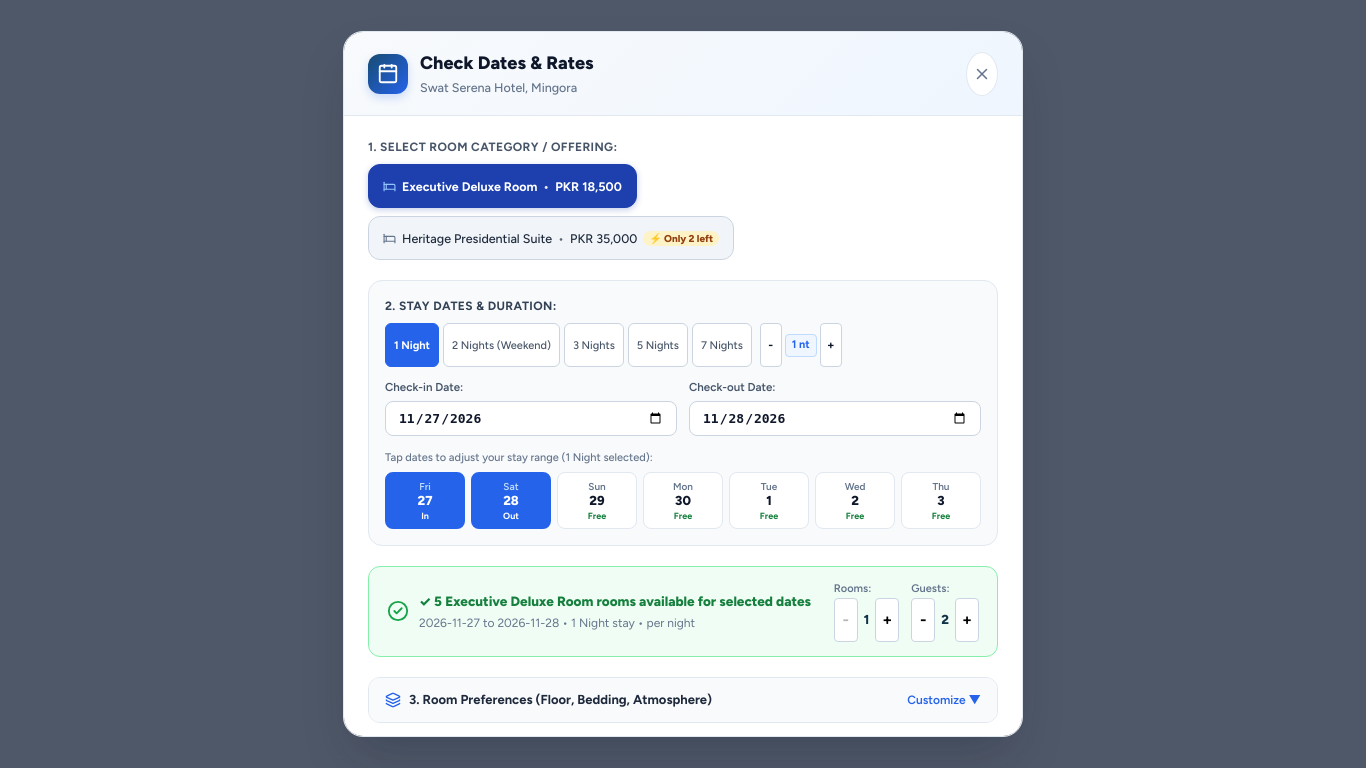
Phase 3: Interactive Availability & Multi-Night Date Picker › renders check-in and check-out date inputs with quick duration presets
Expected: the heading "Check Dates & Rates" is shown, [420, 50, 594, 77]
Expected: the text "Swat Serena Hotel, Mingora" is shown, [420, 79, 594, 98]
// Clicking 3 Nights updates stay range
What coordinates should you click on to do the following:
click the button "3 Nights"
I would click on:
 (594, 346)
Its box is [564, 324, 624, 368].
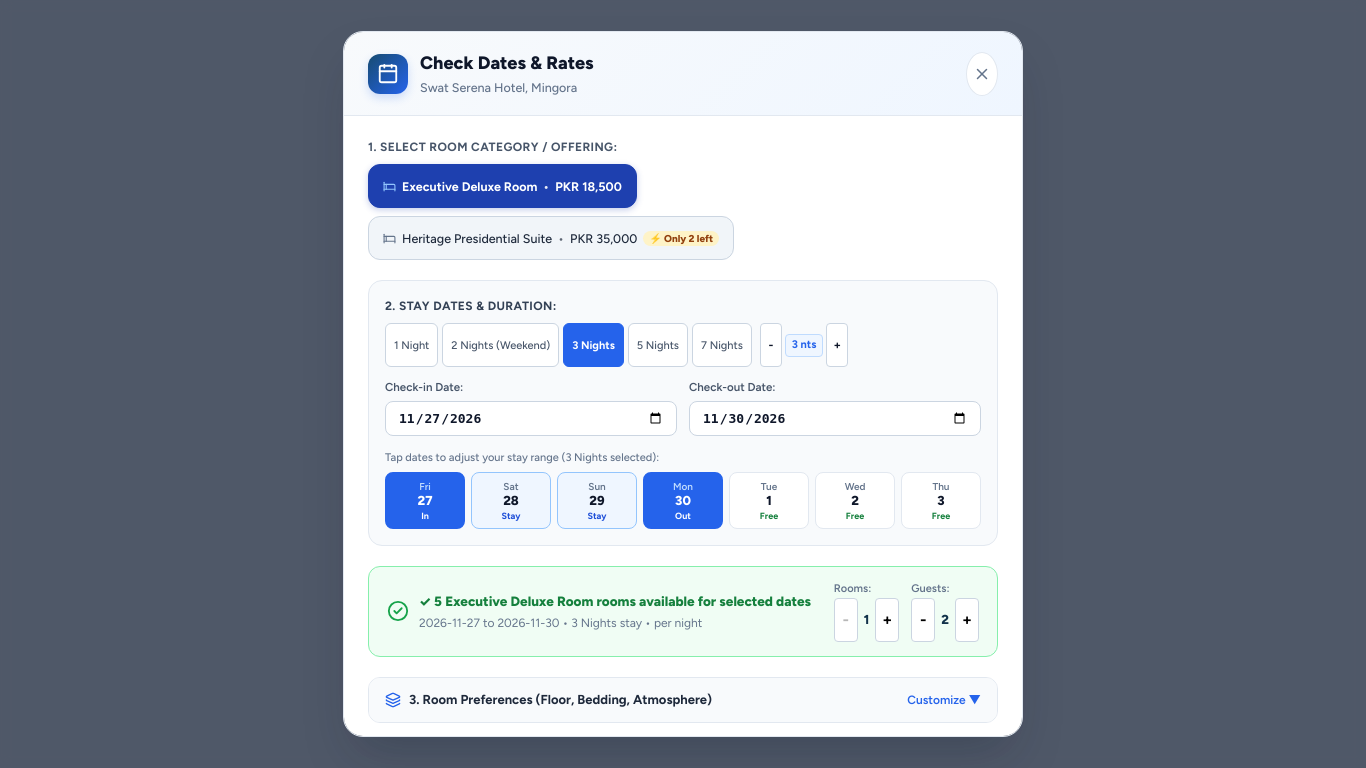
Now the text "Tap dates to adjust your stay range (3 Nights selected):" is shown, box [385, 451, 659, 464]
